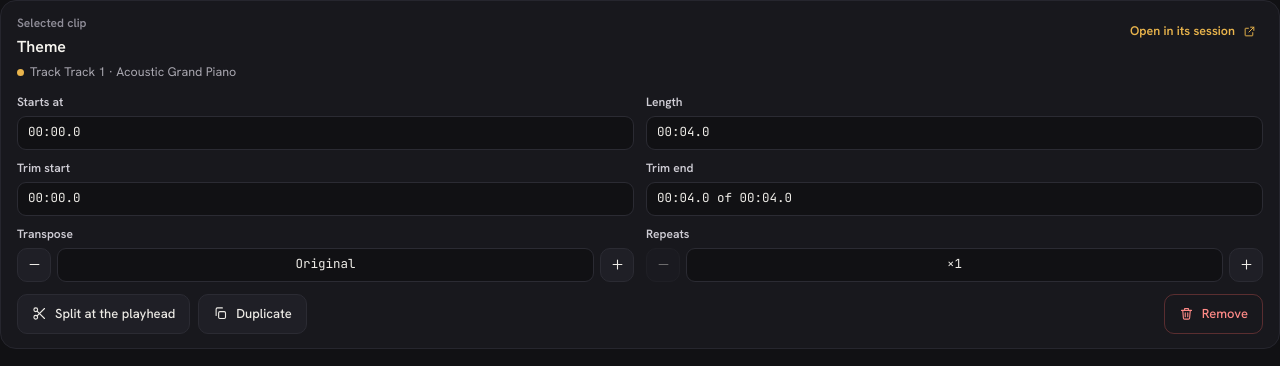
Test case: ClipInspectorComponent › describes the selected clip and edits its transposition and repeats
Click the button named "One semitone up" at (617, 265), box [600,248,634,282]
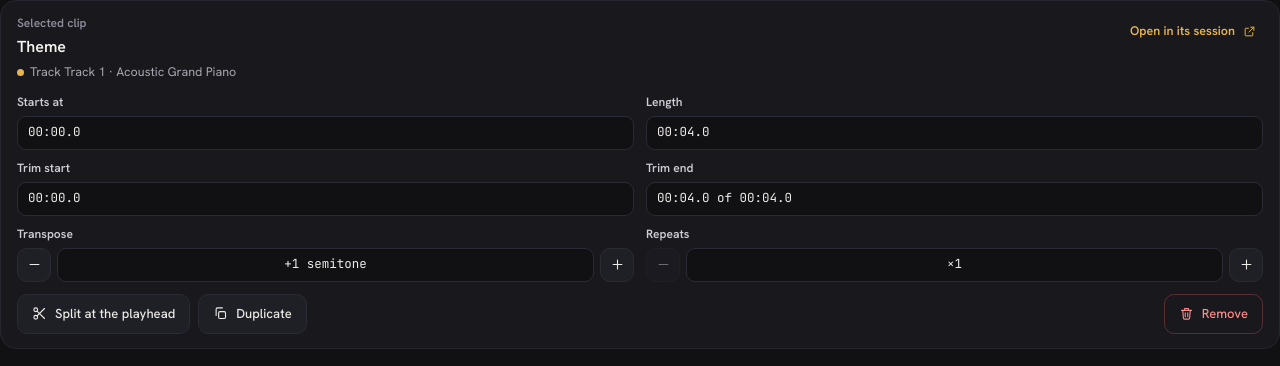
Expected: the text "+1 semitone" is shown, [57,248,594,282]
Click the button named "One semitone down" at (34, 265), box [17,248,51,282]
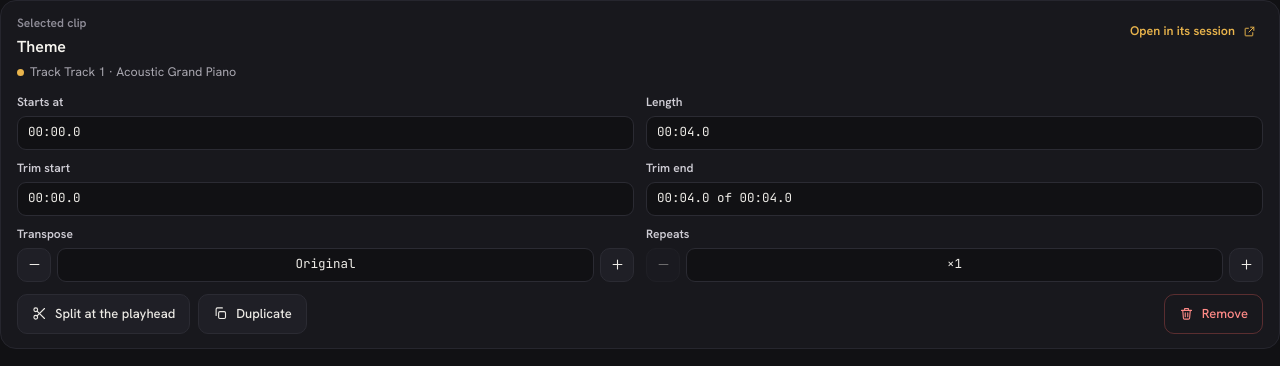
Click the button named "One semitone down" at (34, 265), box [17,248,51,282]
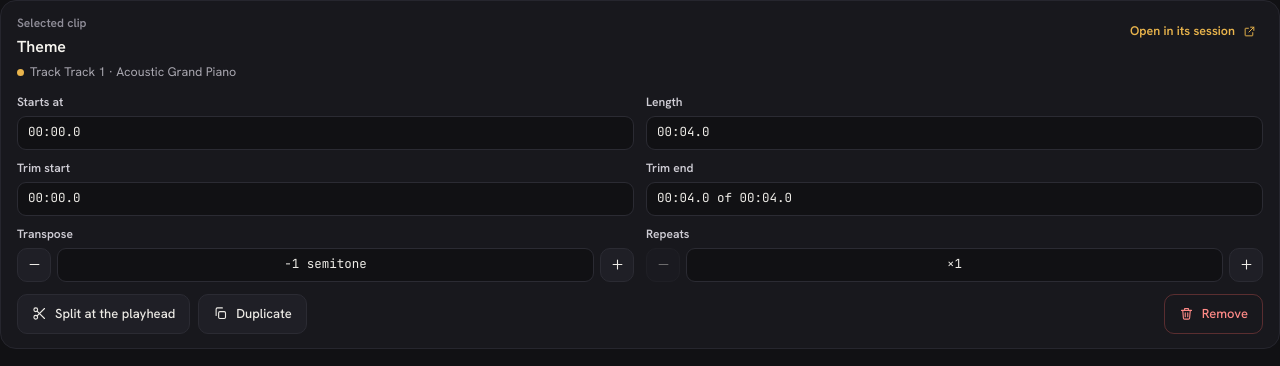
Expected: the text "−1 semitone" is shown, [57,248,594,282]
Click the button named "One repetition more" at (1246, 265), box [1229,248,1263,282]
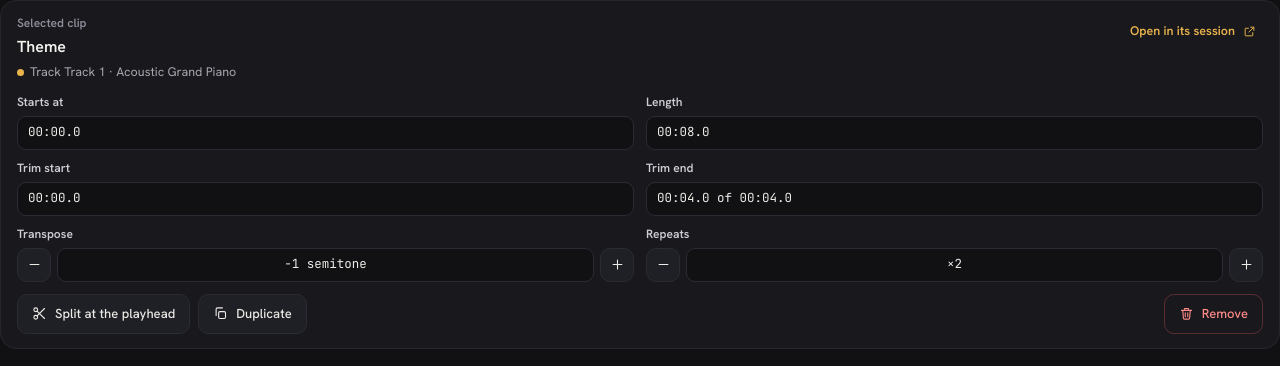
Expected: the text "00:08.0" is shown, [646,116,1263,150]
